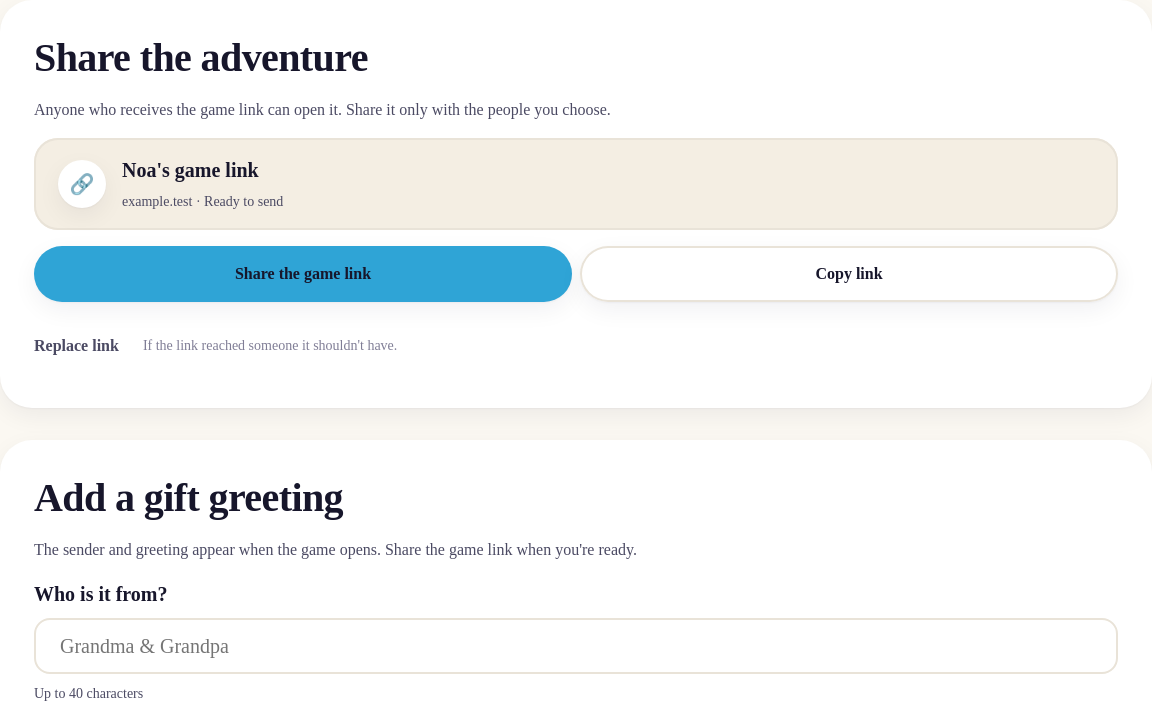
Test case: manage game: the questions before the irreversible › offers manual copying when clipboard access fails, and reports success only after it succeeds
This screenshot has width=1152, height=720.
Expected: the field showing "https://example.test/play/shr_1.sig" is not shown
Click the button "Copy link" at (849, 274), box 580,246 -> 1118,302
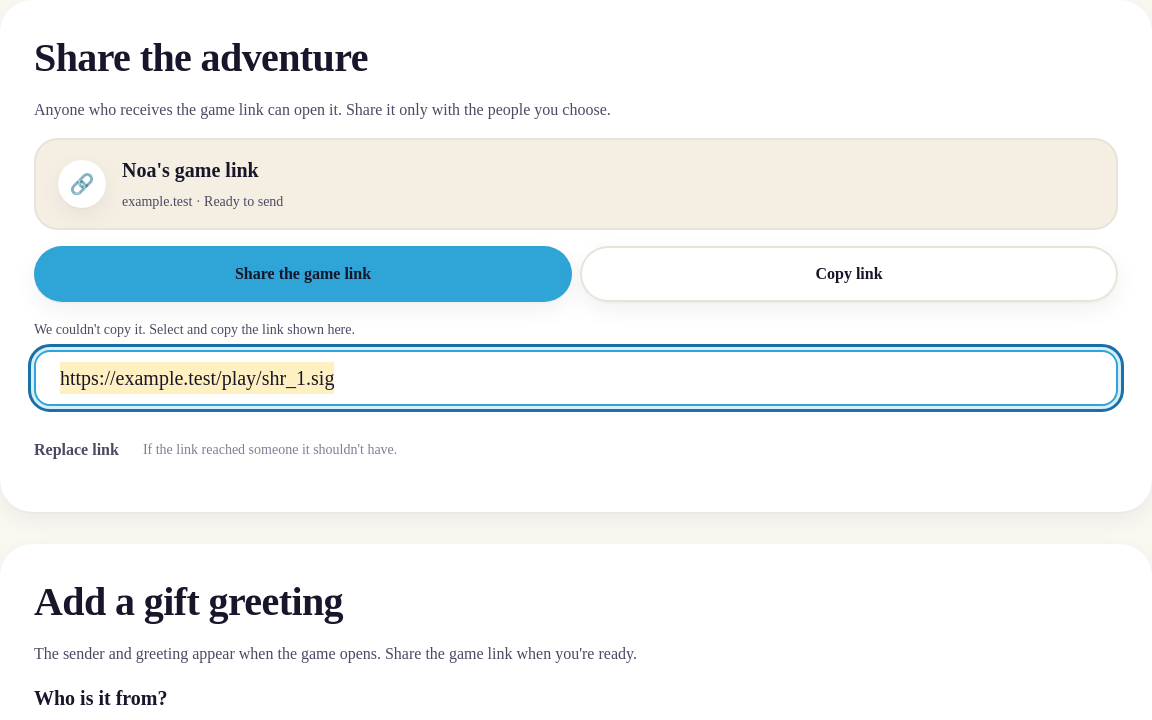
Expected: the text "Link copied" is not shown
Result: the text "We couldn't copy it. Select and copy the link shown here." is shown at 34,322 -> 355,337
Result: the field showing "https://example.test/play/shr_1.sig" is shown at 34,350 -> 1118,406
Click the button "Copy link" at (849, 274), box 580,246 -> 1118,302
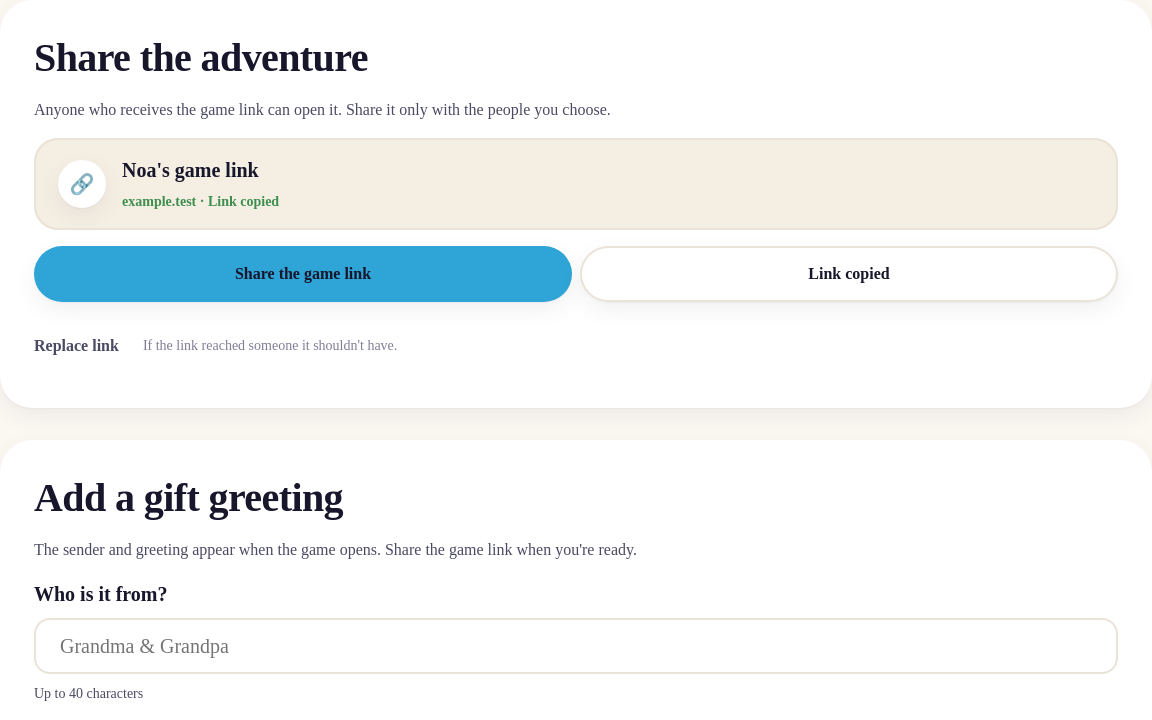
Expected: the field showing "https://example.test/play/shr_1.sig" is not shown
Result: the button "Link copied" is shown at 580,246 -> 1118,302
Result: the text "We couldn't copy it. Select and copy the link shown here." is gone
